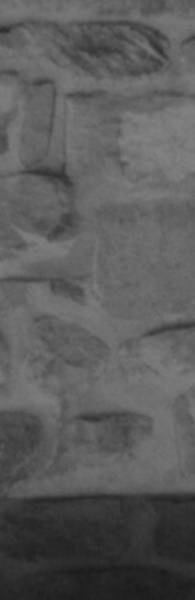water: (0, 495, 195, 600)
